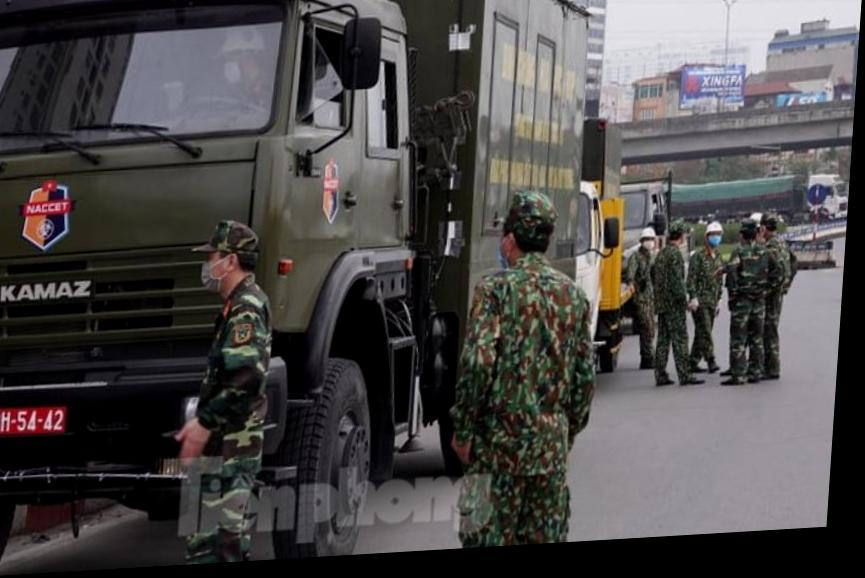License_Plate: (0, 402, 69, 436)
